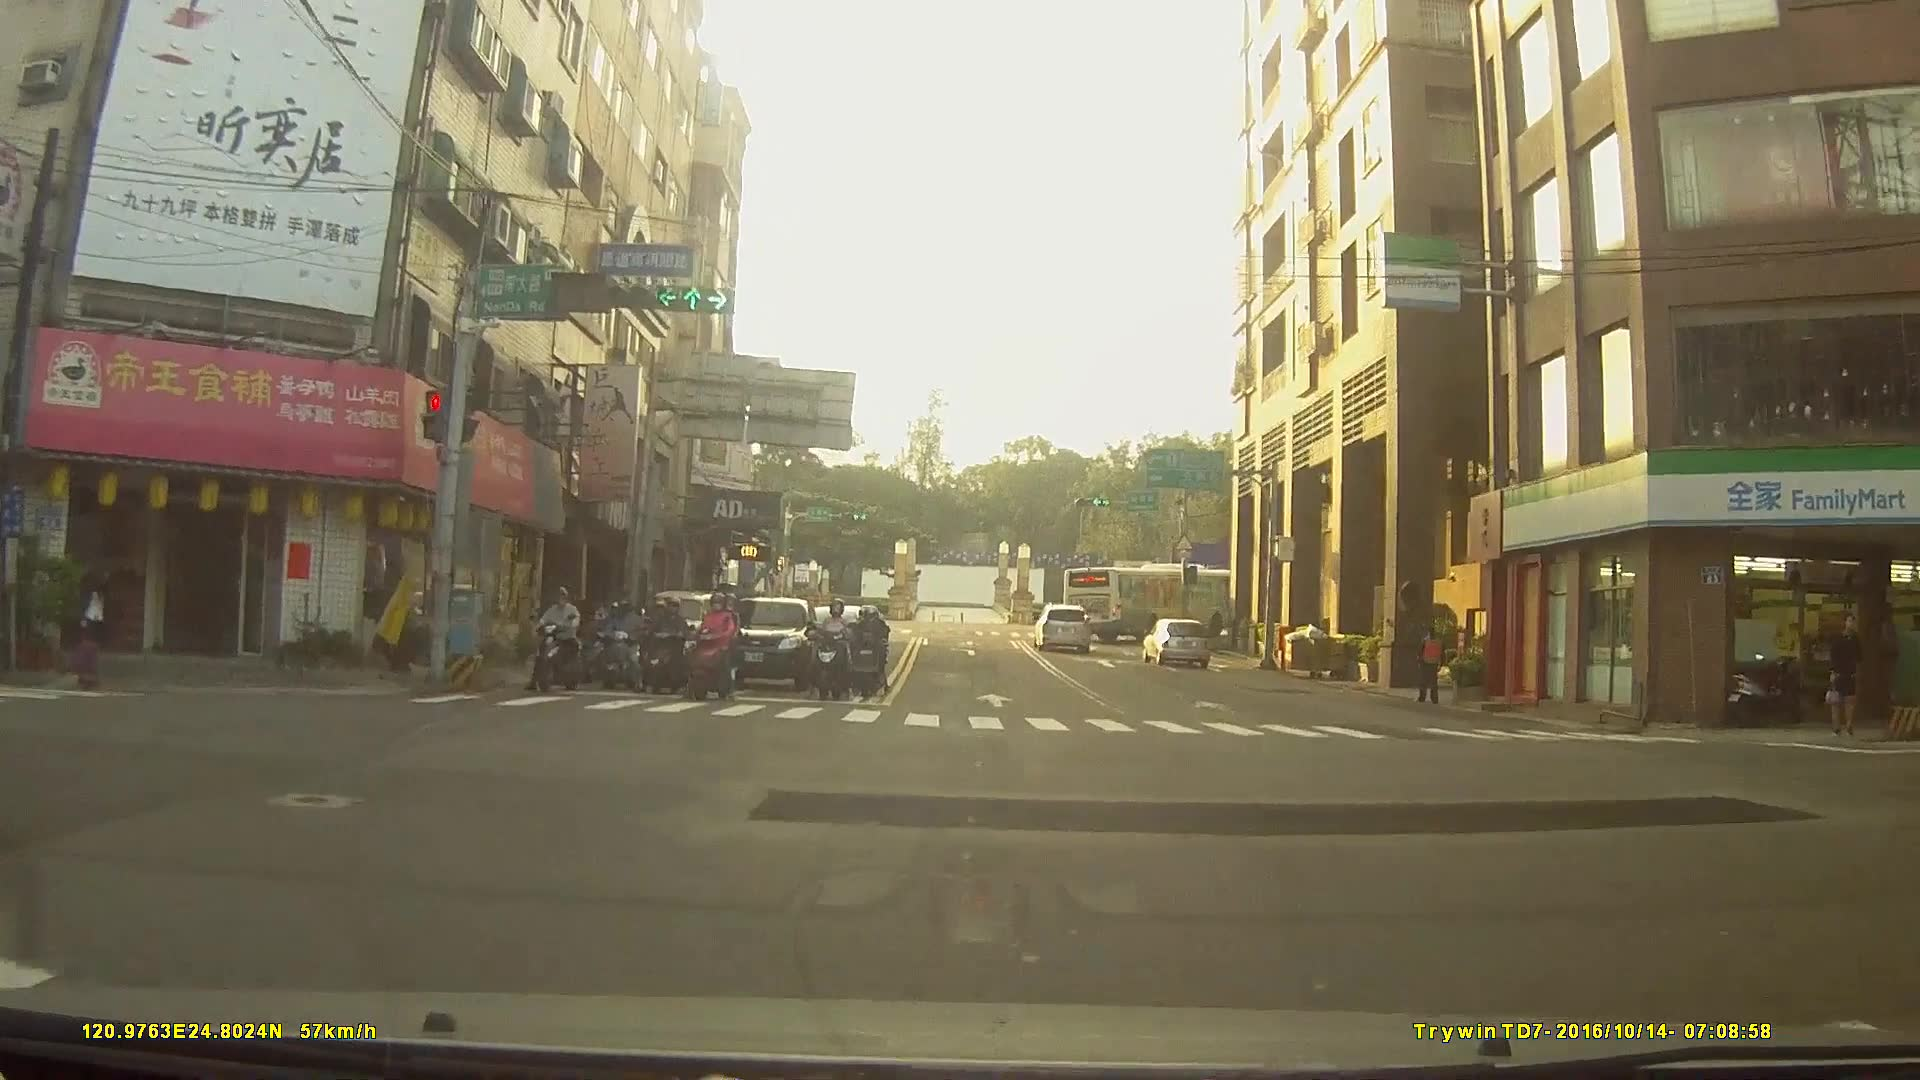pedestrian: (66, 556, 112, 698), (1826, 607, 1871, 738), (1415, 626, 1447, 702)
rider: (683, 590, 744, 706), (531, 587, 586, 692), (811, 595, 856, 698), (590, 602, 636, 695), (643, 599, 685, 696), (849, 611, 892, 701)
vehicle: (1061, 563, 1238, 639), (704, 595, 817, 692), (1141, 614, 1212, 664), (1031, 599, 1090, 650)
